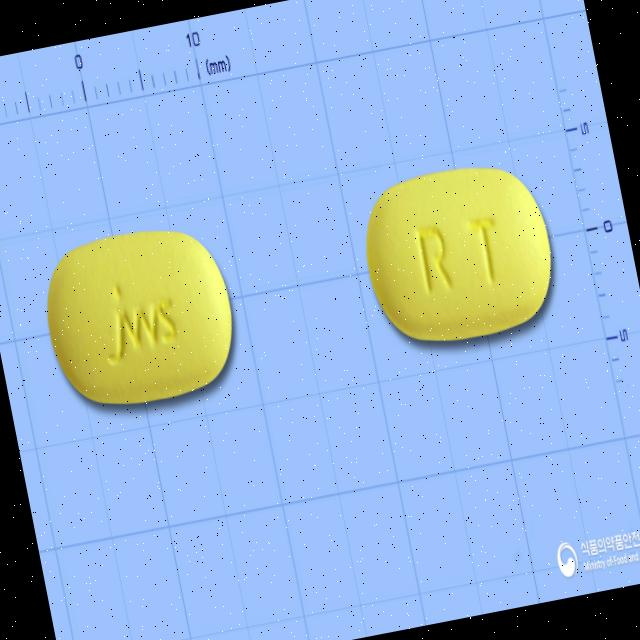Liamclo: (35, 216, 245, 418), (353, 154, 565, 354)
